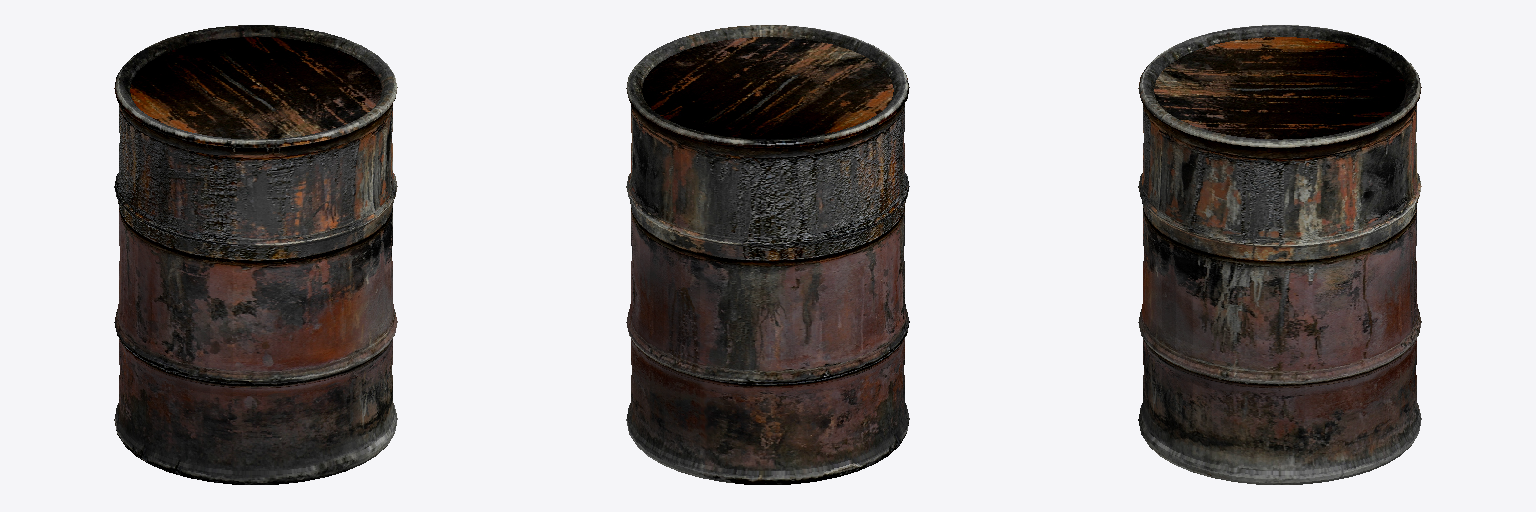
The picture shows the model from 3 angles: view 1: azimuth 30°, elevation 25°; view 2: azimuth 150°, elevation 25°; view 3: azimuth 270°, elevation 25°; orthographic projection.
Visible parts, largest first — view 1: barrel; view 2: barrel; view 3: barrel.
Boxes of the visible parts, <box> form: barrel: <box>114,25,397,484</box>; barrel: <box>626,25,909,484</box>; barrel: <box>1138,25,1421,484</box>.
Size of the model in its own units: 26.59 by 35.84 by 26.59.
1 materials, 1 textured.